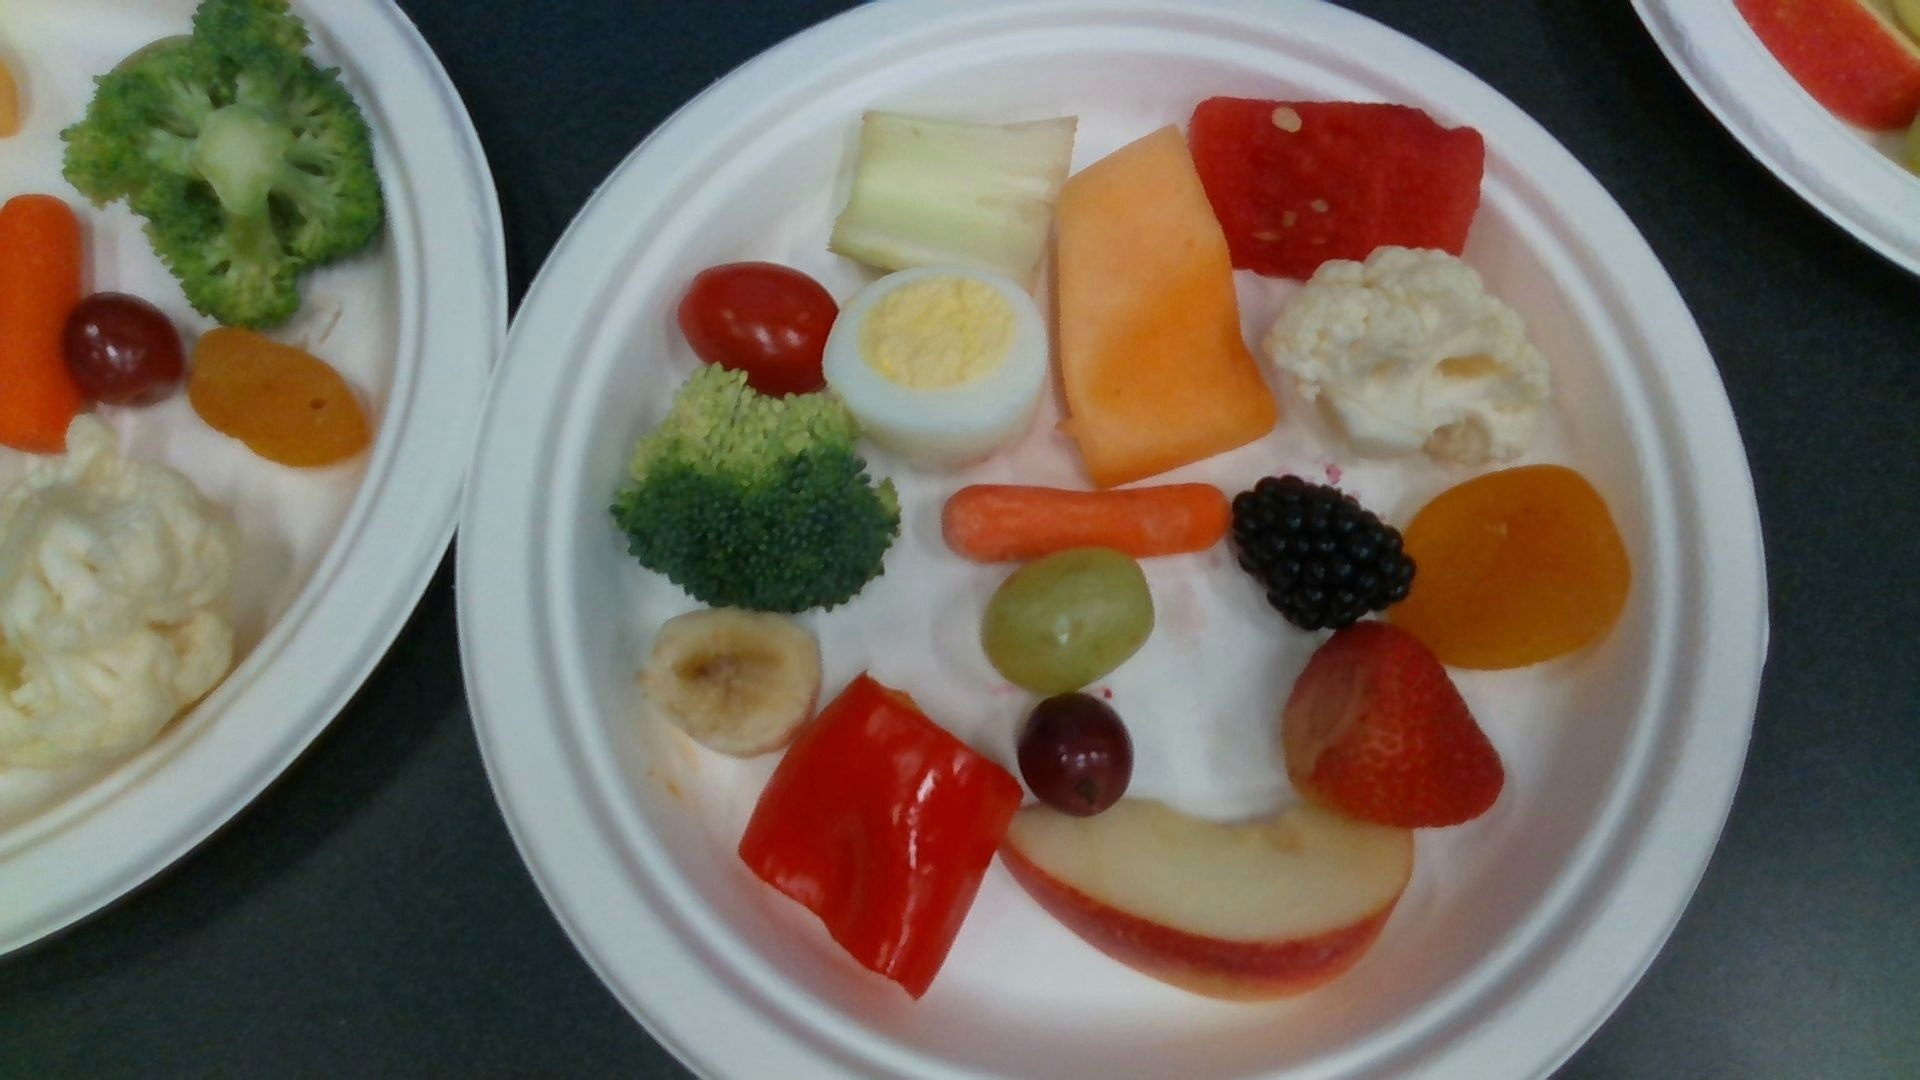apple: (1000, 803, 1415, 990)
apricot: (1387, 468, 1629, 670)
banana: (649, 611, 822, 756)
bell_pepper: (744, 675, 1019, 998)
blackberry: (1232, 476, 1414, 626)
broccoli: (611, 371, 899, 608)
cantalope: (1059, 131, 1275, 487)
carrot: (942, 485, 1230, 560)
cauliflower: (1269, 248, 1553, 462)
celery: (833, 109, 1075, 285)
cherry_tomato: (679, 266, 839, 392)
egg: (822, 265, 1048, 465)
grape_green: (982, 550, 1154, 694)
grape_purple: (1025, 695, 1134, 814)
melon: (1189, 98, 1485, 276)
strawberry: (1287, 630, 1505, 825)
